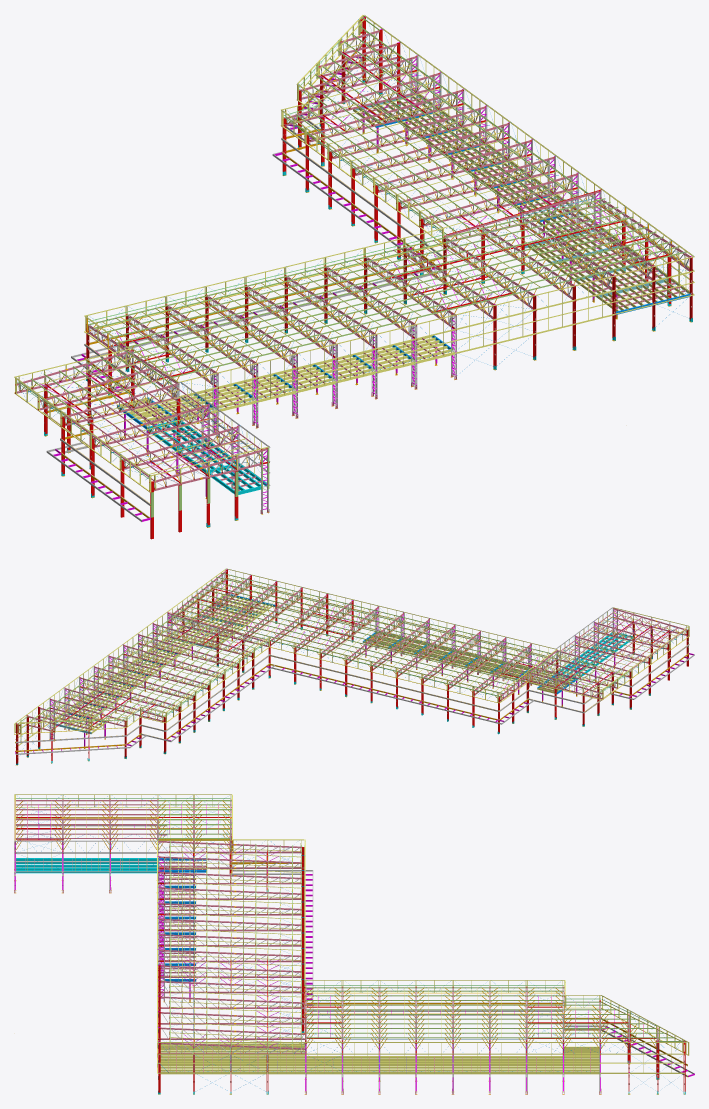
The model's file is palladium.glb.
The picture shows the model from 3 angles, top to bottom: view 1: azimuth 30°, elevation 25°; view 2: azimuth 150°, elevation 25°; view 3: azimuth 270°, elevation 25°; orthographic projection. The views are drawn at different scales.
Parts seen in each view (by area): view 1: Geom3D (×11); view 2: Geom3D (×11); view 3: Geom3D (×11).
Boxes of the visible parts, box(x1,y1,x2,y2) form: Geom3D (×11): box(14, 15, 694, 539); Geom3D (×11): box(14, 568, 694, 765); Geom3D (×11): box(14, 794, 694, 1094).
Bounding box in the file's own units: 88.94 × 8.71 × 102.
